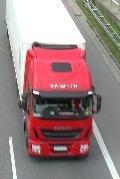Truck: (5, 0, 103, 159)
